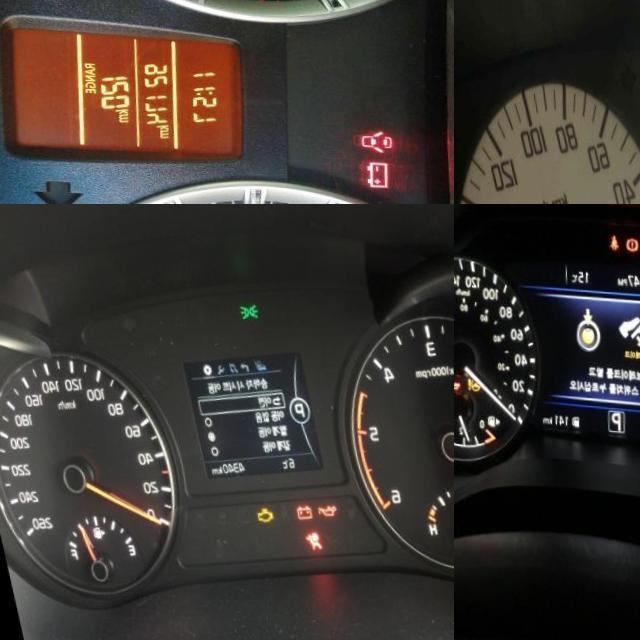SideLamp: (236, 299, 257, 319)
